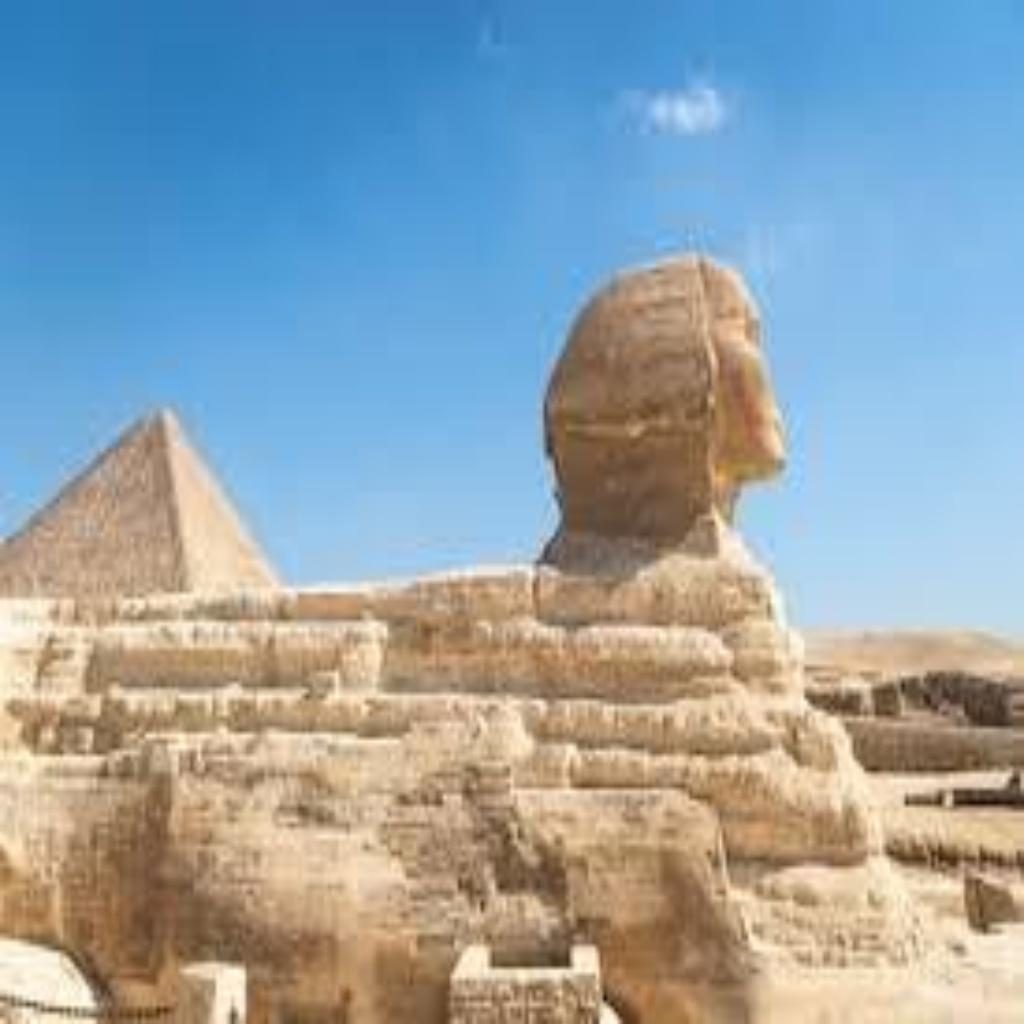Sphinx: (0, 240, 1020, 1018)
